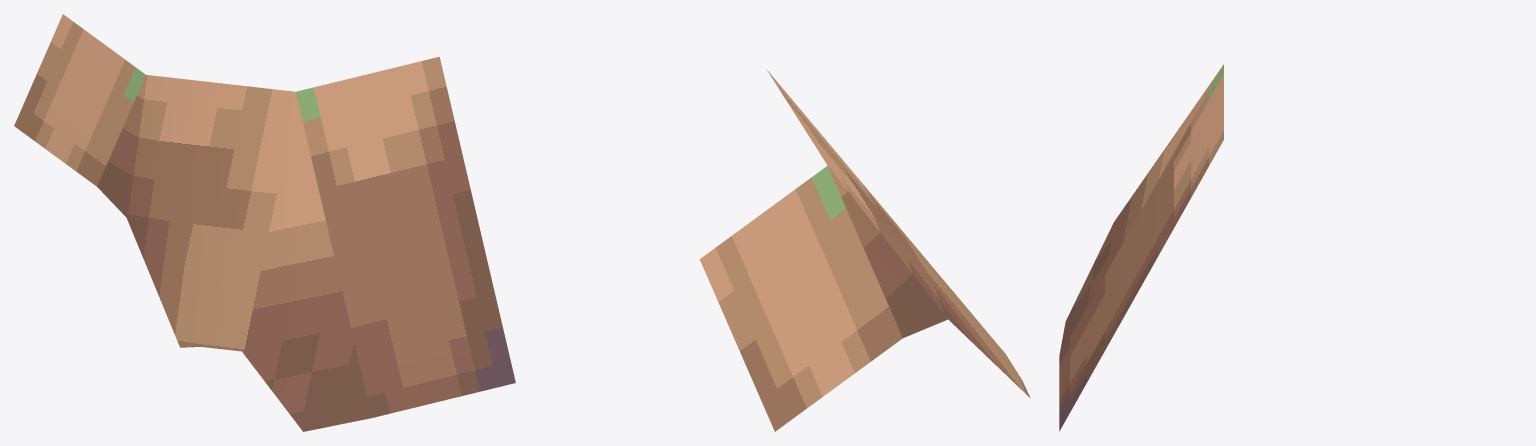
3 renders of one model, left to right at view 1: azimuth 30°, elevation 25°; view 2: azimuth 150°, elevation 25°; view 3: azimuth 270°, elevation 25°, orthographic. The views are drawn at different scales.
Bounding box in the file's own units: 1 × 0.8984 × 1.29.
1 material, 1 textured.
